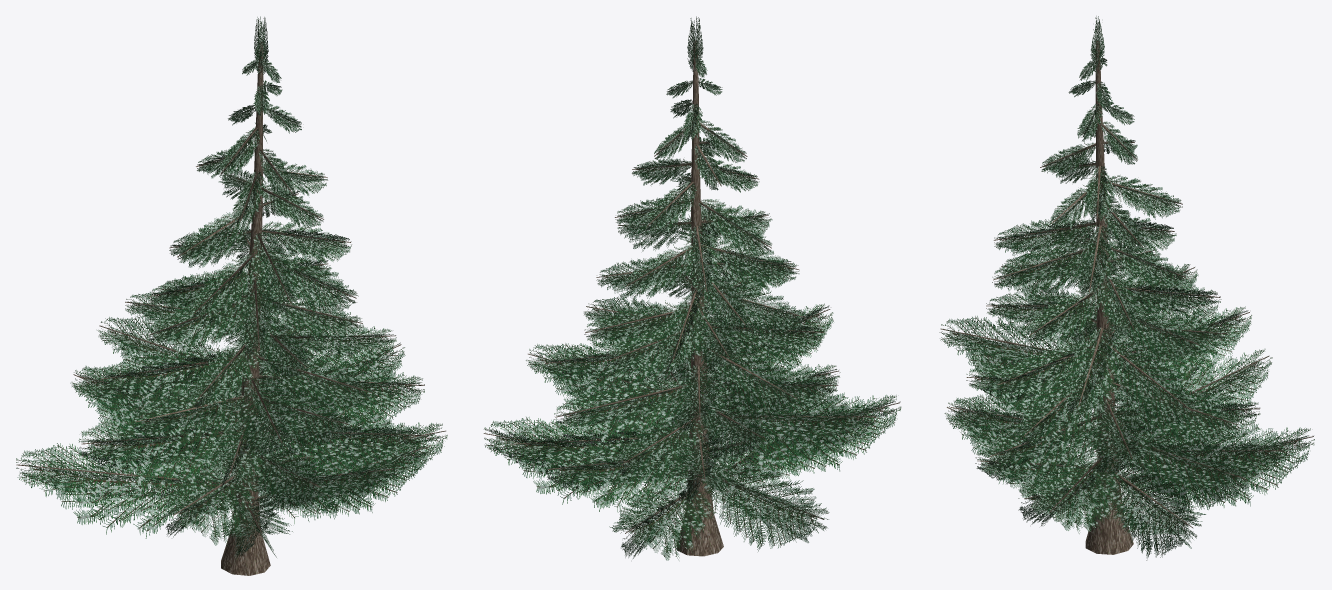
File: pinheiro_nv_c.glb
The picture shows the model from 3 angles, left to right: view 1: azimuth 30°, elevation 25°; view 2: azimuth 150°, elevation 25°; view 3: azimuth 270°, elevation 25°; orthographic projection. The views are drawn at different scales.
Visible parts, largest first — view 1: pinheiro_nv_c; view 2: pinheiro_nv_c; view 3: pinheiro_nv_c.
Part boxes in pixels (x1,y1,x2,y2): pinheiro_nv_c: [16, 16, 447, 575]; pinheiro_nv_c: [483, 16, 901, 560]; pinheiro_nv_c: [939, 16, 1314, 560].
Bounding box in the file's own units: 7.28 × 10.01 × 6.54.
Materials: 2 (2 with a texture image).
